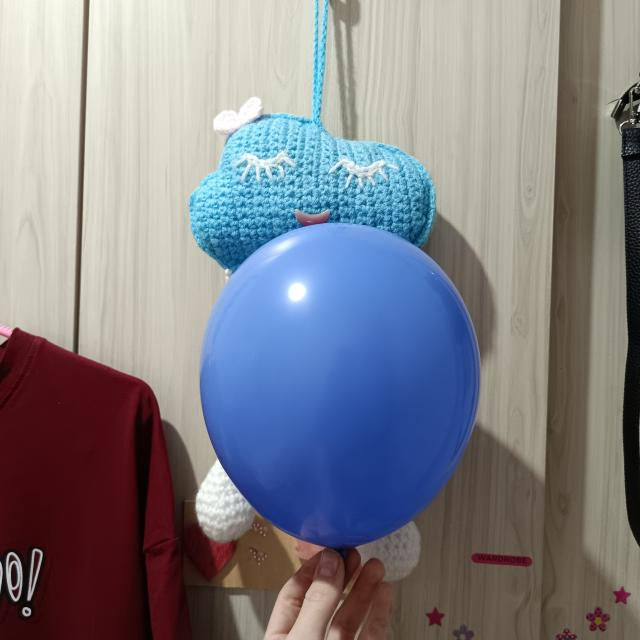blue: (201, 225, 482, 551)
